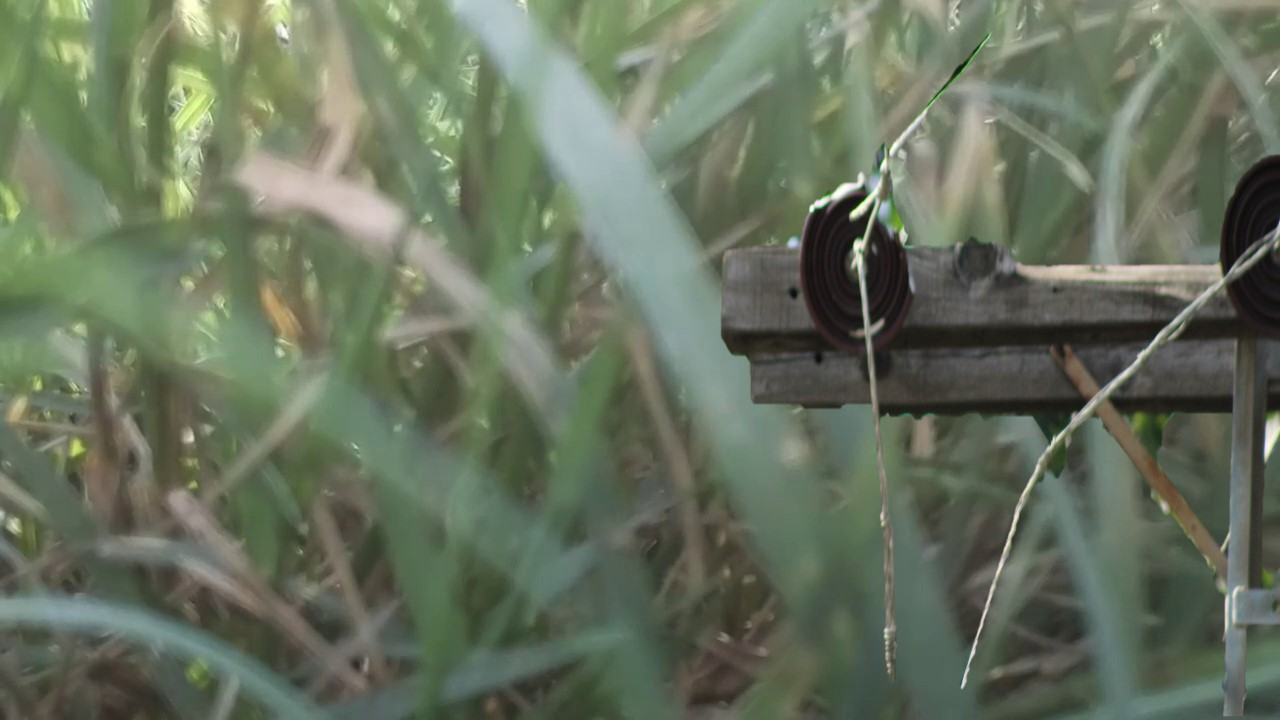defect_disc: (796, 167, 924, 351)
